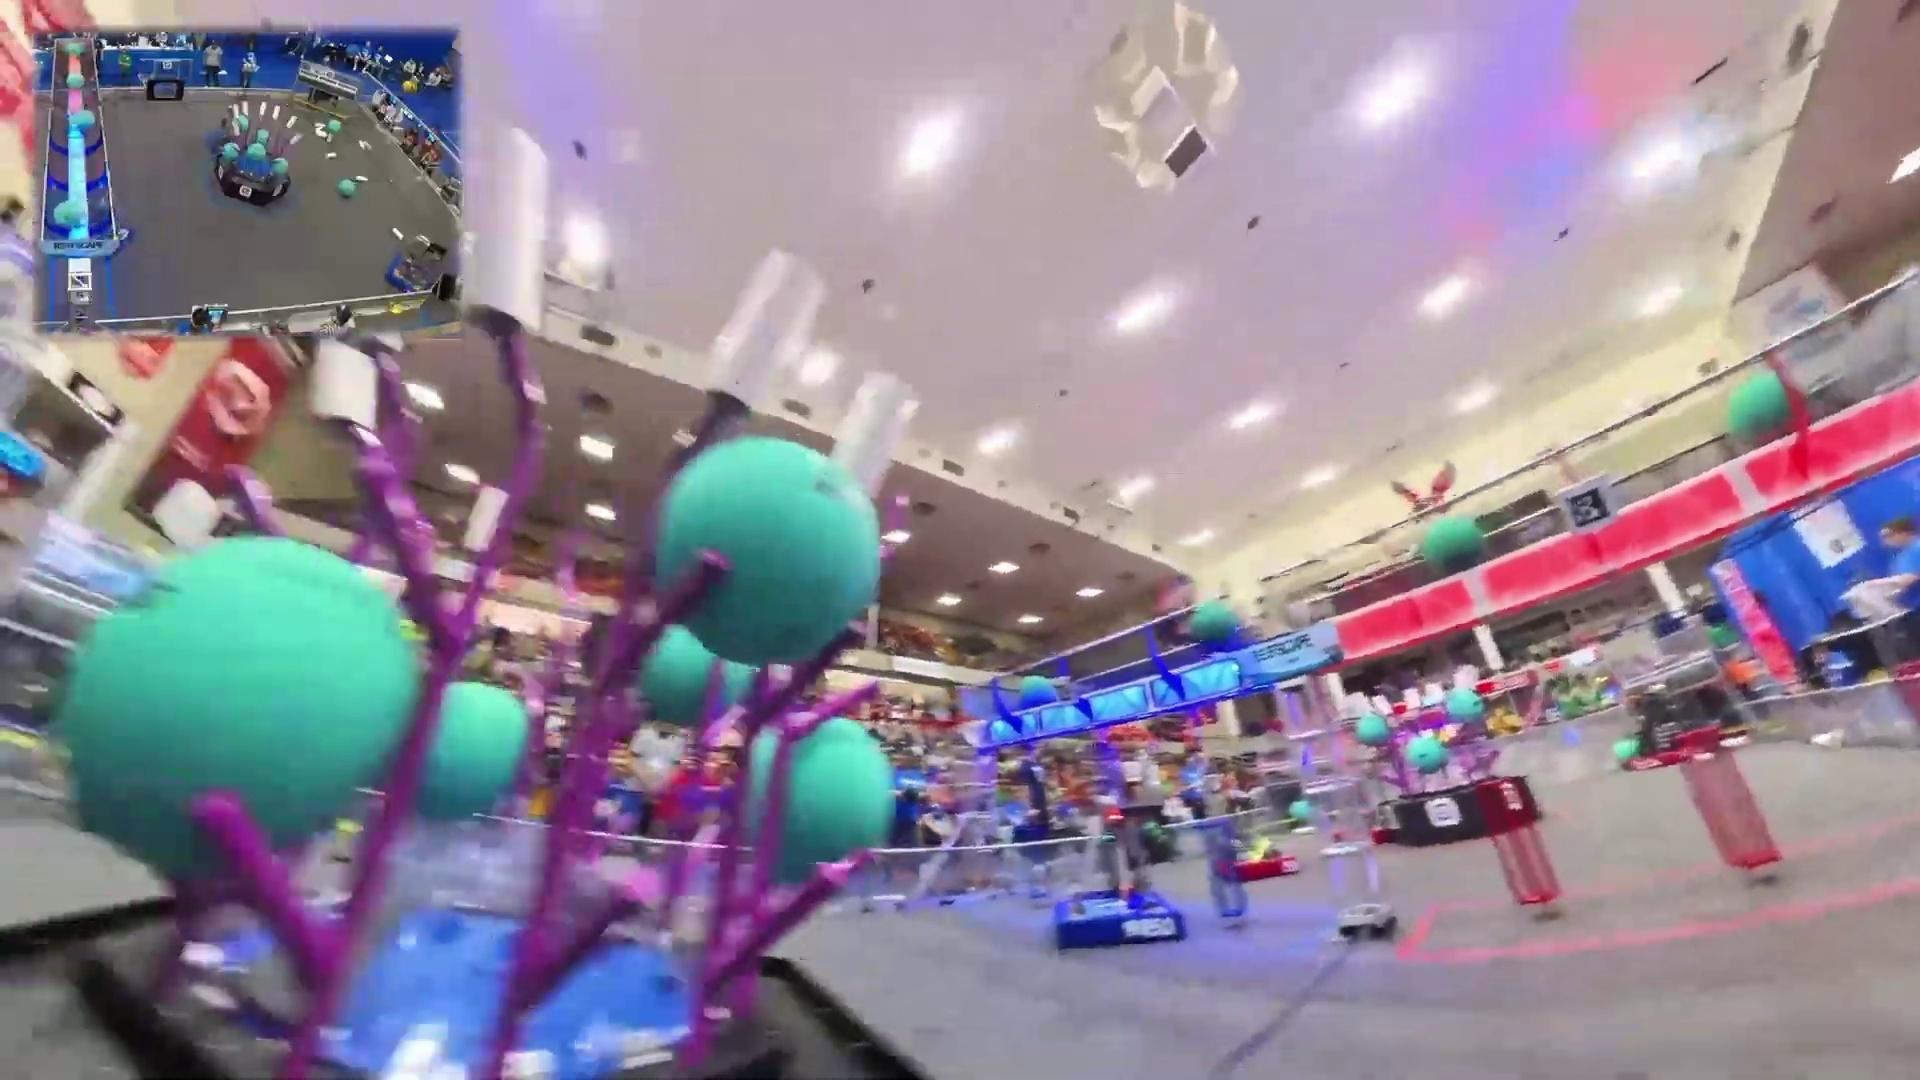robot: (1051, 798, 1187, 953), (1625, 686, 1698, 777), (1218, 835, 1300, 885), (385, 236, 448, 294)
